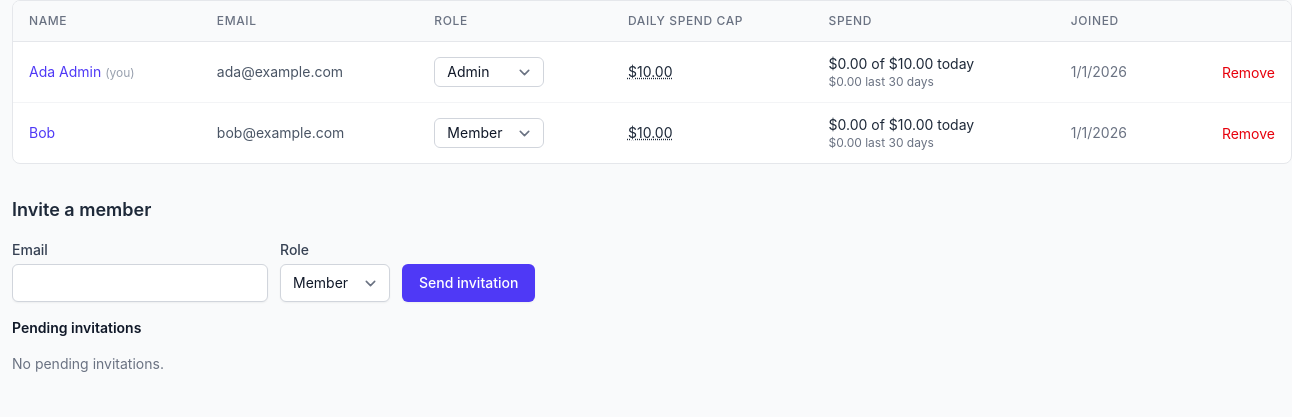
Scenario: PeopleManager › sends an invitation and lists it
expect the text "No pending invitations." is shown: met, box [12, 355, 164, 372]
Type "carol@example.com" into the field labelled "Email" at (140, 283), box [12, 264, 268, 302]
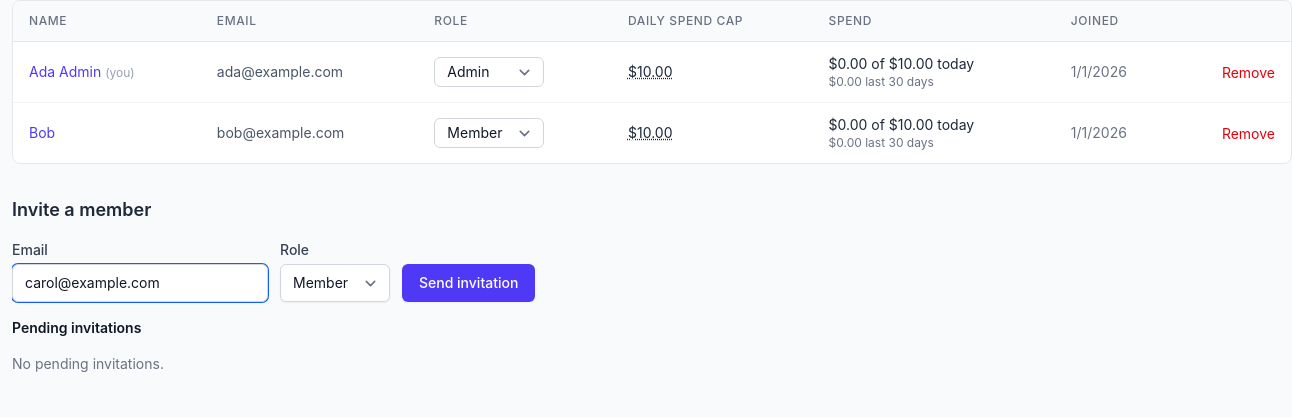
Select "Admin" in the dropdown labelled "Role" at (335, 283), box [280, 264, 390, 302]
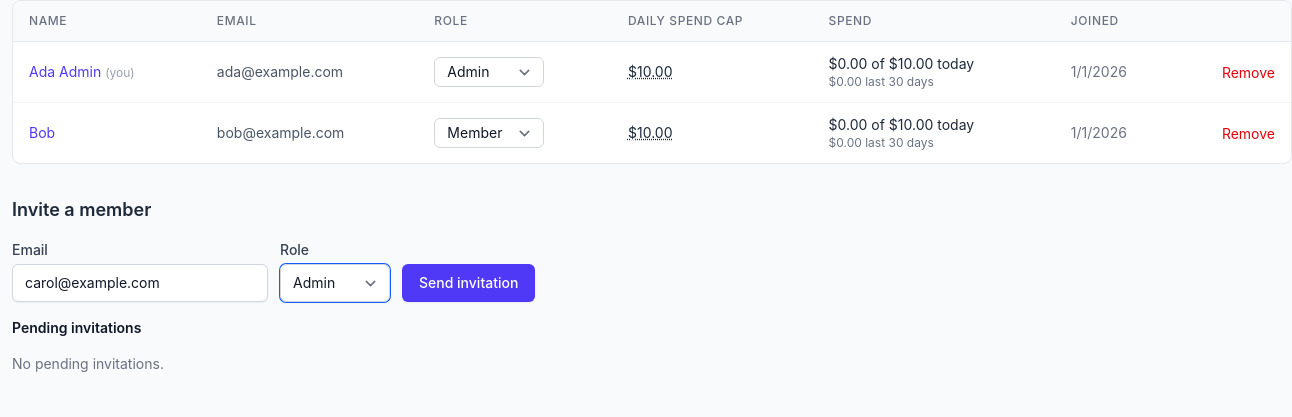
Click the button "Send invitation" at (469, 283), box [402, 264, 535, 302]
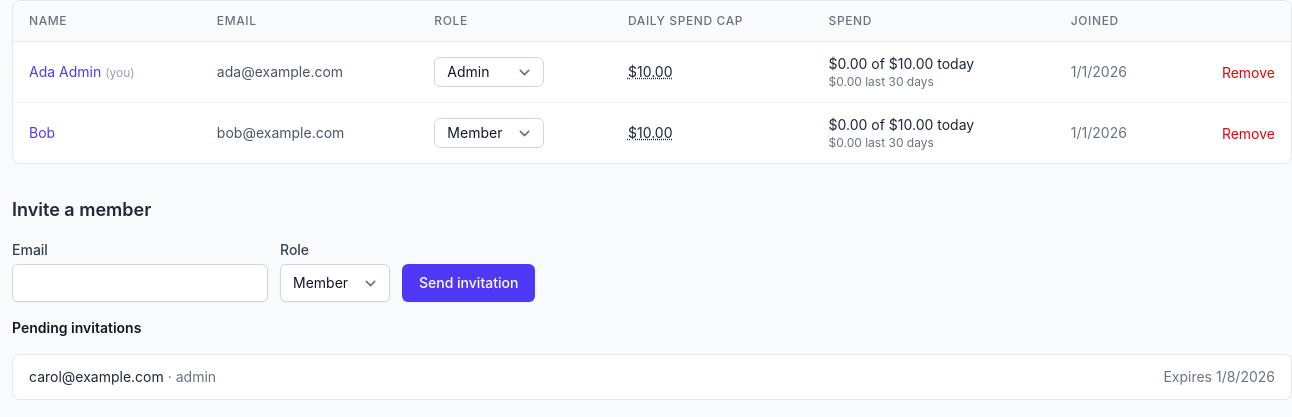
expect the text "carol@example.com" is shown: met, box [29, 368, 164, 385]
expect the field labelled "Email" is empty: met, box [12, 264, 268, 302]
